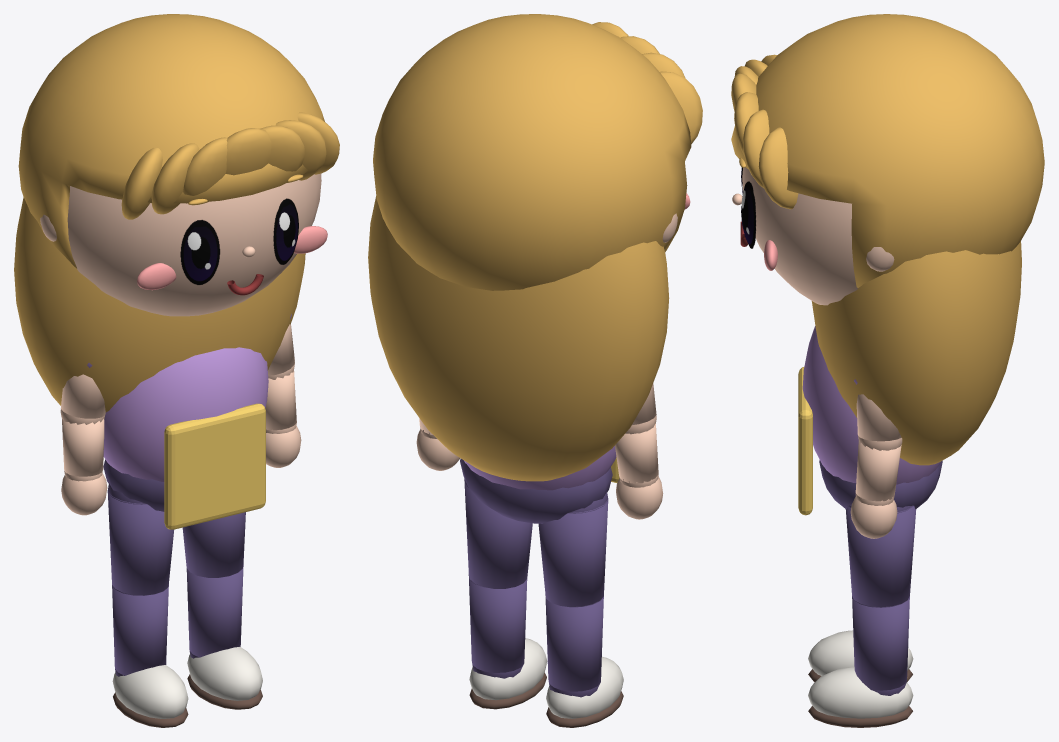
Rendered from v_kai.glb.
The picture shows the model from 3 angles, left to right: view 1: azimuth 30°, elevation 25°; view 2: azimuth 150°, elevation 25°; view 3: azimuth 270°, elevation 25°; orthographic projection. The views are drawn at different scales.
Visible parts, largest first — view 1: head, spine, shinR, shinL, thighR, foreArmR, thighL, foreArmL, upperArmR, pelvis, upperArmL; view 2: head, shinR, shinL, thighR, thighL, pelvis, foreArmR, spine, foreArmL, upperArmR; view 3: head, shinL, spine, thighL, foreArmL, pelvis, shinR, upperArmL.
Part boxes in pixels (x1,y1,x2,y2): head: [14, 14, 339, 412]; spine: [103, 347, 268, 529]; shinR: [112, 584, 188, 727]; shinL: [186, 564, 262, 709]; thighR: [107, 483, 173, 595]; foreArmR: [61, 419, 107, 515]; thighL: [182, 512, 245, 577]; foreArmL: [265, 371, 301, 467]; upperArmR: [60, 363, 105, 424]; pelvis: [103, 459, 164, 511]; upperArmL: [268, 314, 294, 379]; head: [368, 14, 702, 481]; shinR: [545, 595, 623, 727]; shinL: [468, 574, 547, 709]; thighR: [538, 492, 608, 606]; thighL: [464, 478, 532, 588]; pelvis: [460, 458, 612, 523]; foreArmR: [615, 423, 663, 519]; spine: [464, 446, 619, 490]; foreArmL: [416, 418, 459, 470]; upperArmR: [625, 383, 656, 434]; head: [731, 14, 1044, 465]; shinL: [808, 596, 913, 727]; spine: [798, 326, 940, 515]; thighL: [845, 505, 916, 607]; foreArmL: [850, 439, 901, 538]; pelvis: [819, 460, 942, 509]; shinR: [808, 630, 913, 682]; upperArmL: [854, 379, 902, 450].
Size of the model in its own units: 0.5478 by 1.28 by 0.5416.
Materials: 11 (1 with a texture image).
